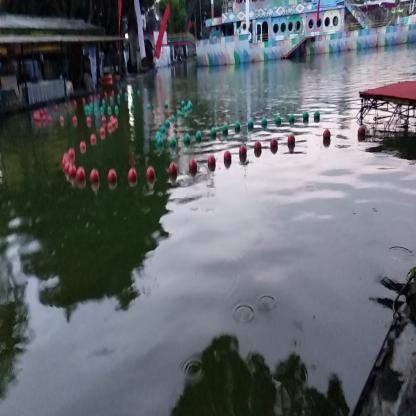green_buoy: (184, 131, 192, 147), (234, 119, 242, 134), (221, 124, 230, 137), (168, 137, 177, 150), (313, 110, 321, 124), (261, 116, 268, 132), (210, 128, 218, 142), (247, 118, 254, 133), (157, 137, 164, 152), (158, 126, 168, 136), (274, 116, 282, 128), (302, 111, 309, 124), (195, 133, 202, 144), (289, 113, 295, 124)
red_buoy: (107, 167, 119, 188), (189, 158, 199, 178), (127, 168, 138, 186), (63, 155, 72, 174), (321, 131, 333, 145), (89, 172, 101, 186), (356, 126, 366, 142), (239, 145, 247, 165), (224, 150, 232, 169), (209, 155, 217, 174), (78, 168, 87, 184), (146, 168, 156, 182), (169, 165, 177, 180), (254, 139, 261, 156), (287, 137, 295, 150), (270, 139, 278, 151), (80, 138, 85, 154), (70, 166, 74, 182)
